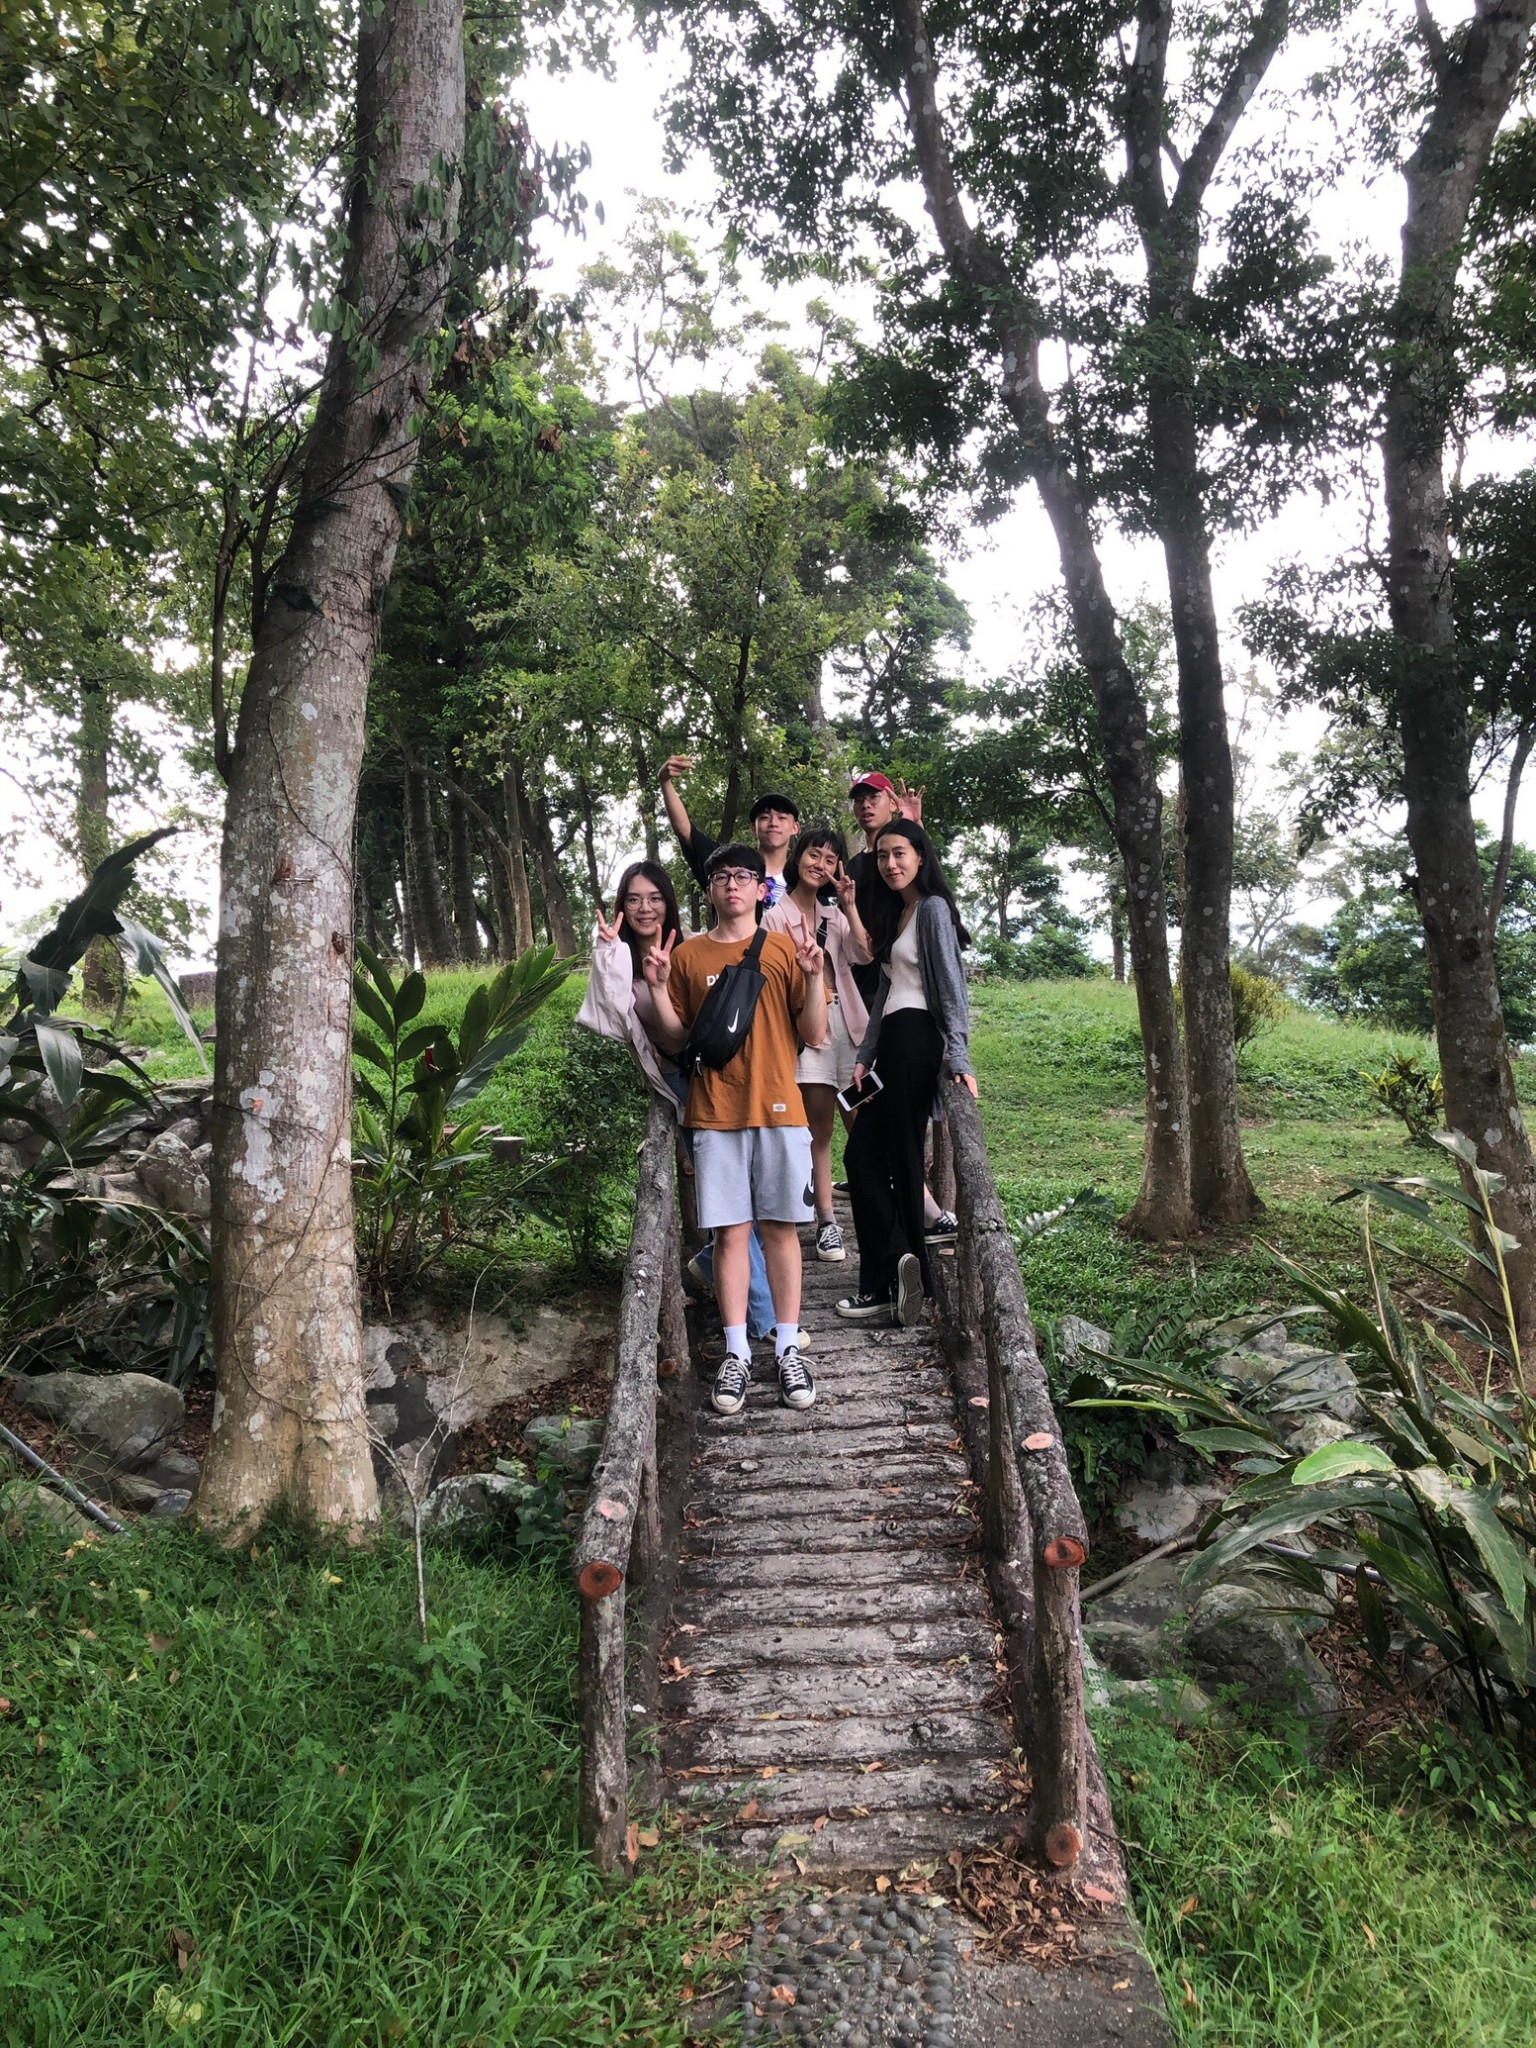people: (611, 860, 782, 1357), (686, 864, 827, 1409), (853, 825, 947, 1309), (769, 834, 856, 1260), (724, 796, 811, 1205), (834, 767, 905, 844)
